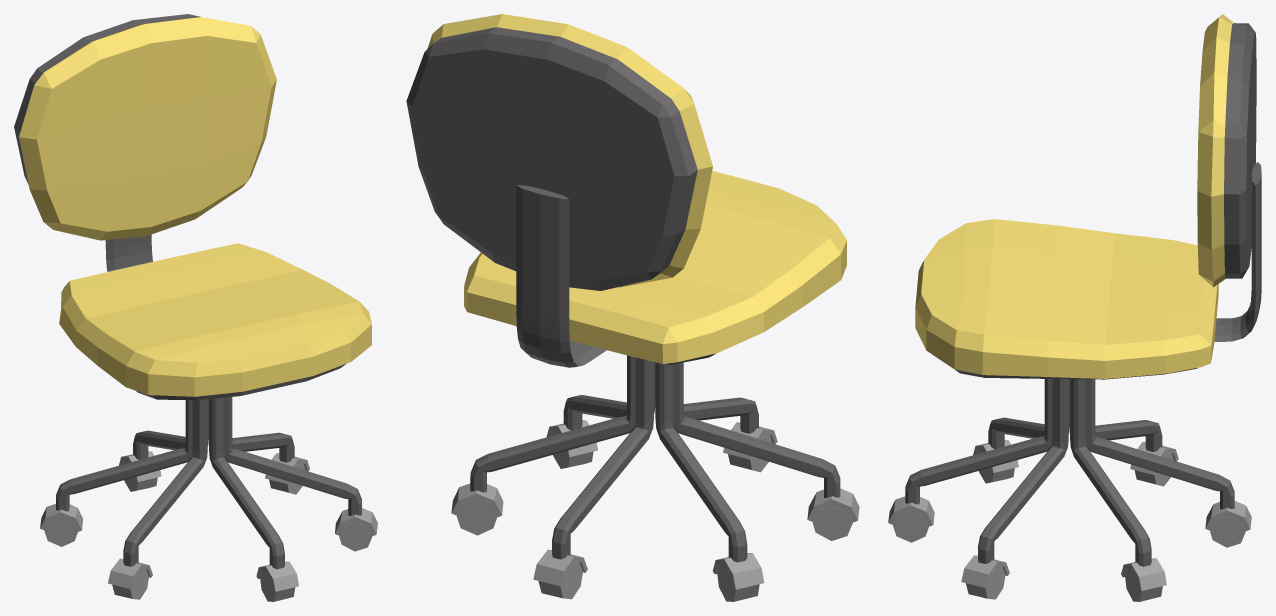
The model's file is Chair_8.fbx.
3 views of the same model, side by side, from view 1: azimuth 30°, elevation 25°; view 2: azimuth 150°, elevation 25°; view 3: azimuth 270°, elevation 25° (orthographic). The views are drawn at different scales.
Parts seen in each view (by area): view 1: Chair_8; view 2: Chair_8; view 3: Chair_8.
Boxes of the visible parts, left/top/right/bottom form: Chair_8: left=14, top=14, right=377, bottom=601; Chair_8: left=406, top=14, right=859, bottom=601; Chair_8: left=888, top=14, right=1261, bottom=601.
Size of the model in its own units: 75.55 by 84.5 by 126.
